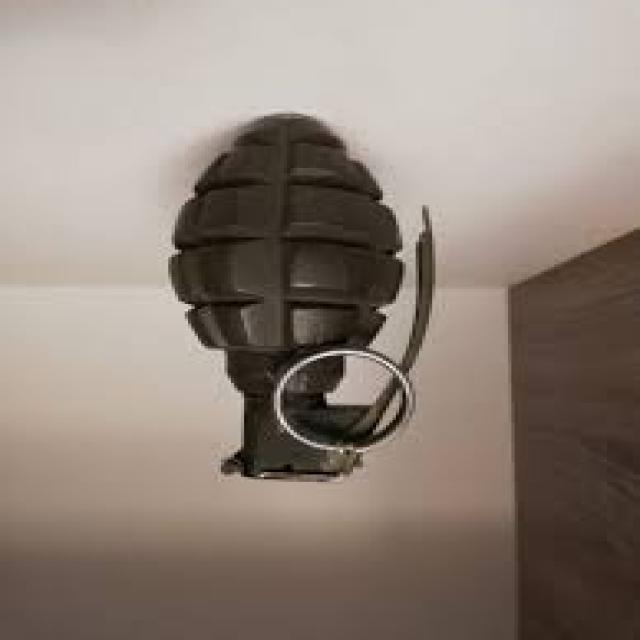grenade: (165, 108, 451, 486)
